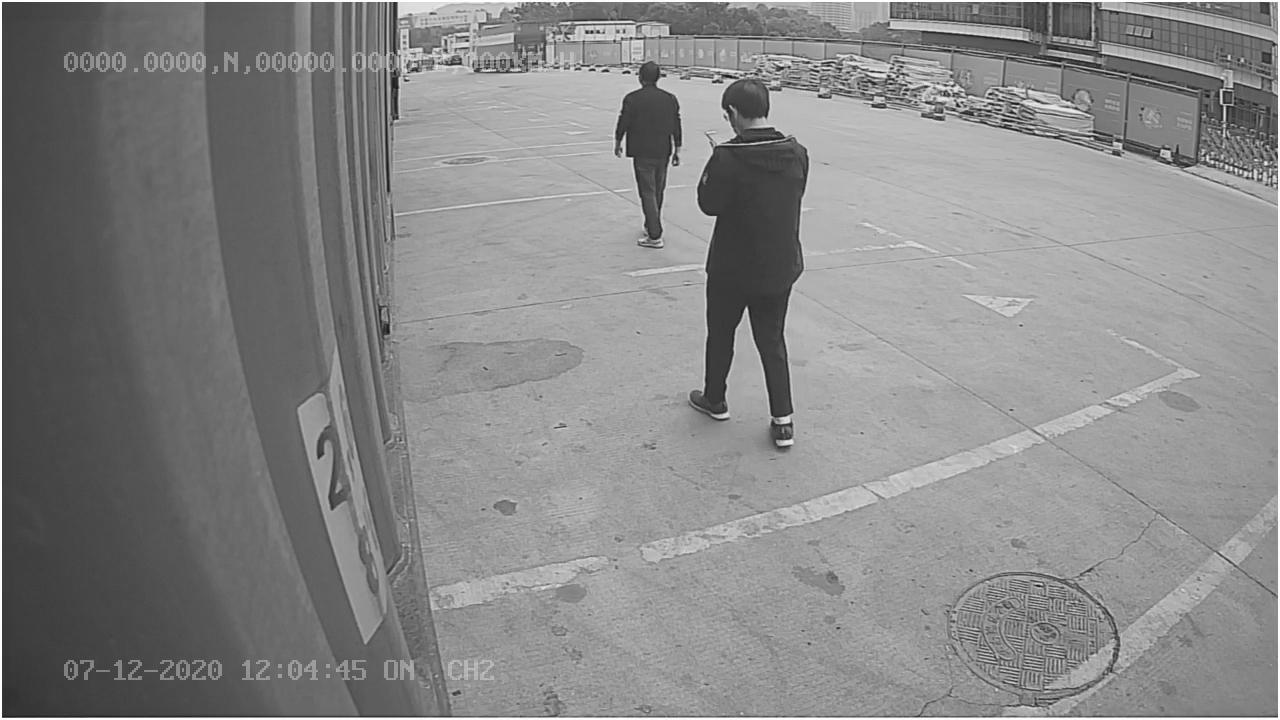person: (686, 77, 819, 450)
